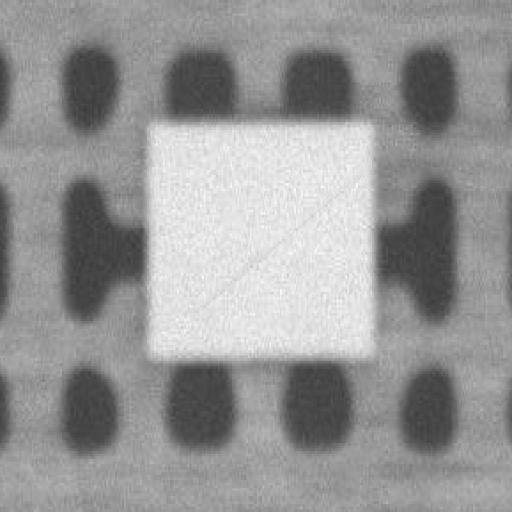DIE_CRACK: (287, 116, 512, 208)
